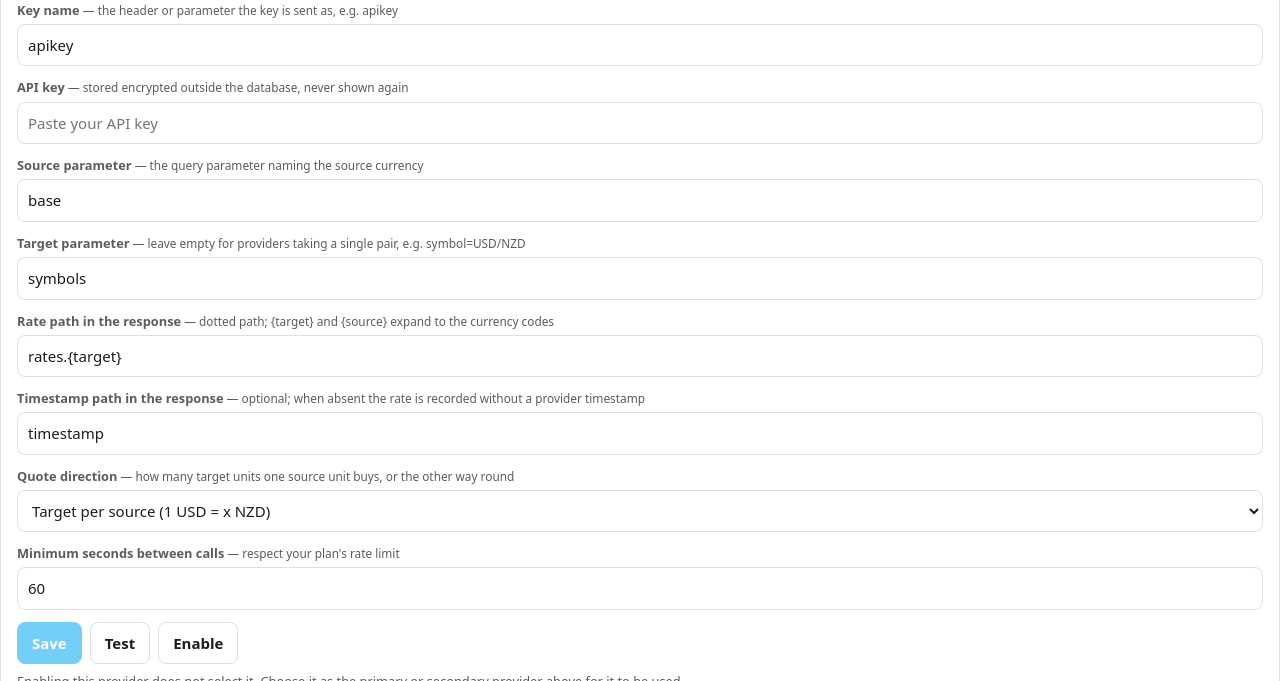
Test: GenericProviderSettingsPanel › reports a failed test as a message rather than hiding it
(page scrolled)
Click the button "Test". click: (120, 643)
box: [90,622,150,664]
(page scrolled)
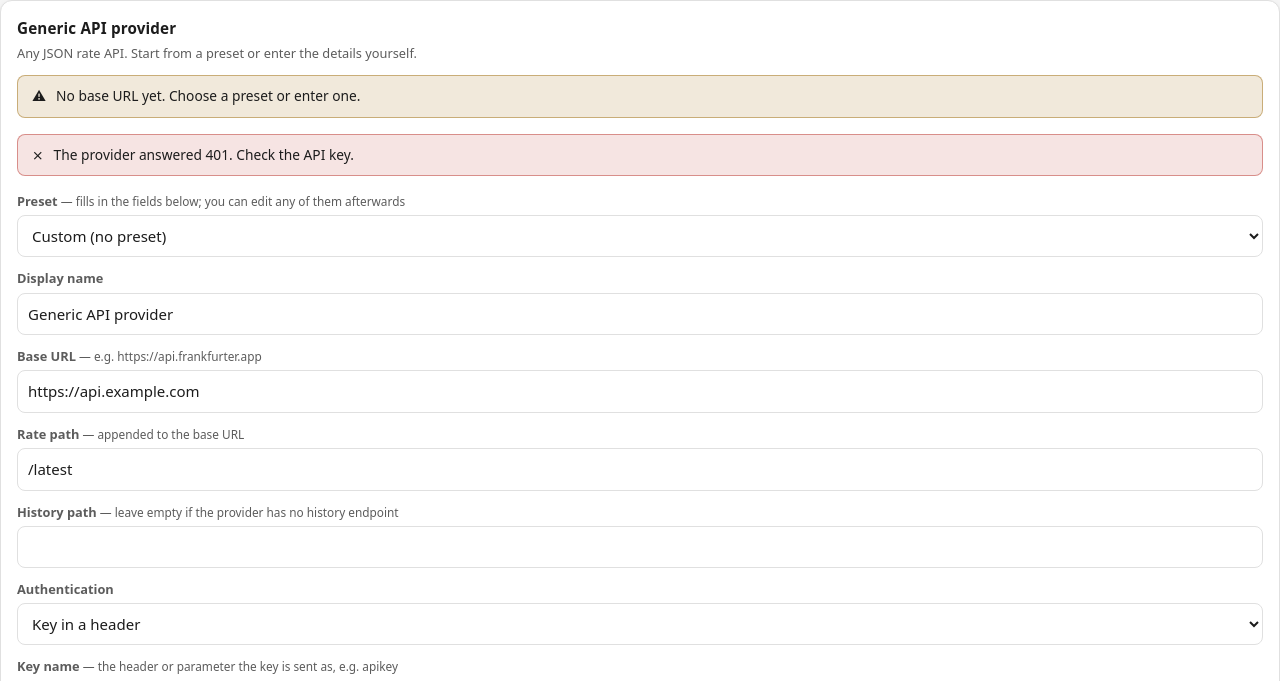
Expected: the text "The provider answered 401. Check the API key." is shown, [54,145,354,165]
